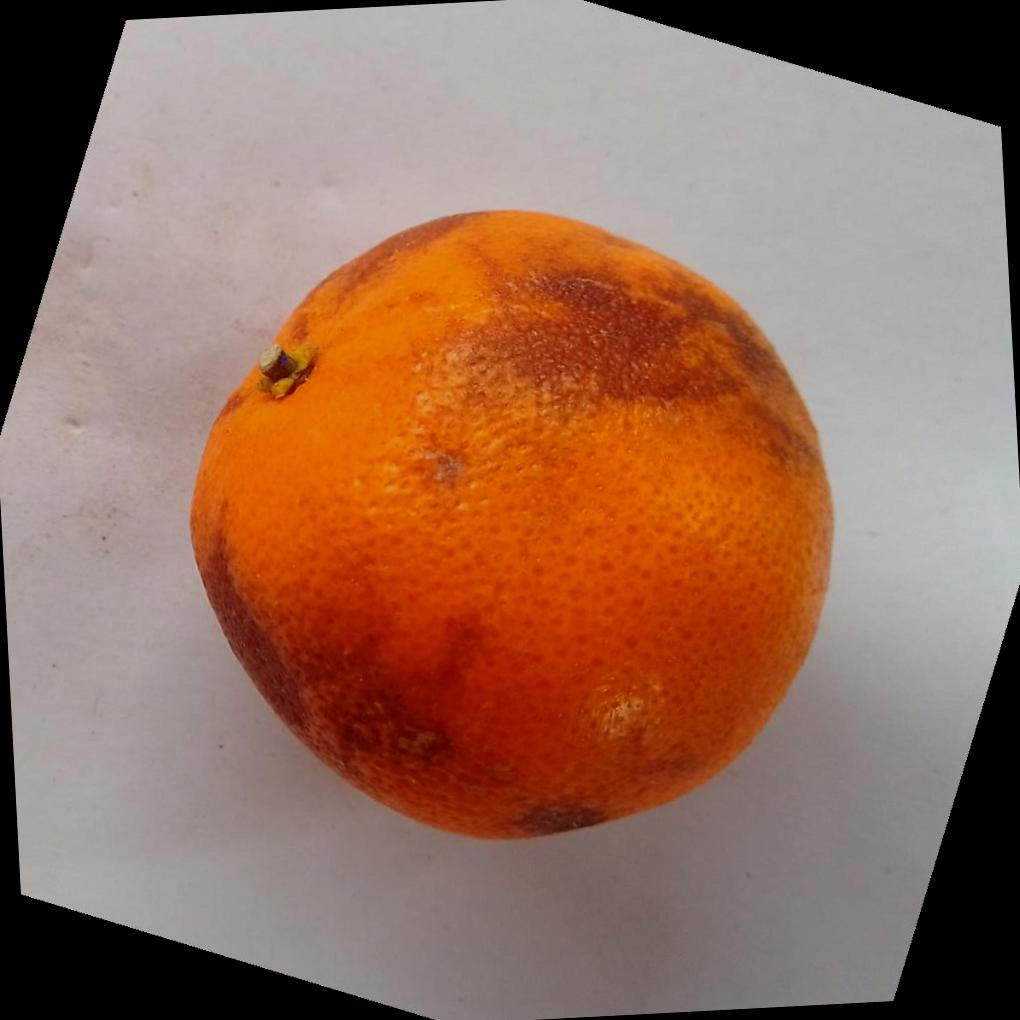FreshOrange: (182, 207, 832, 842)
